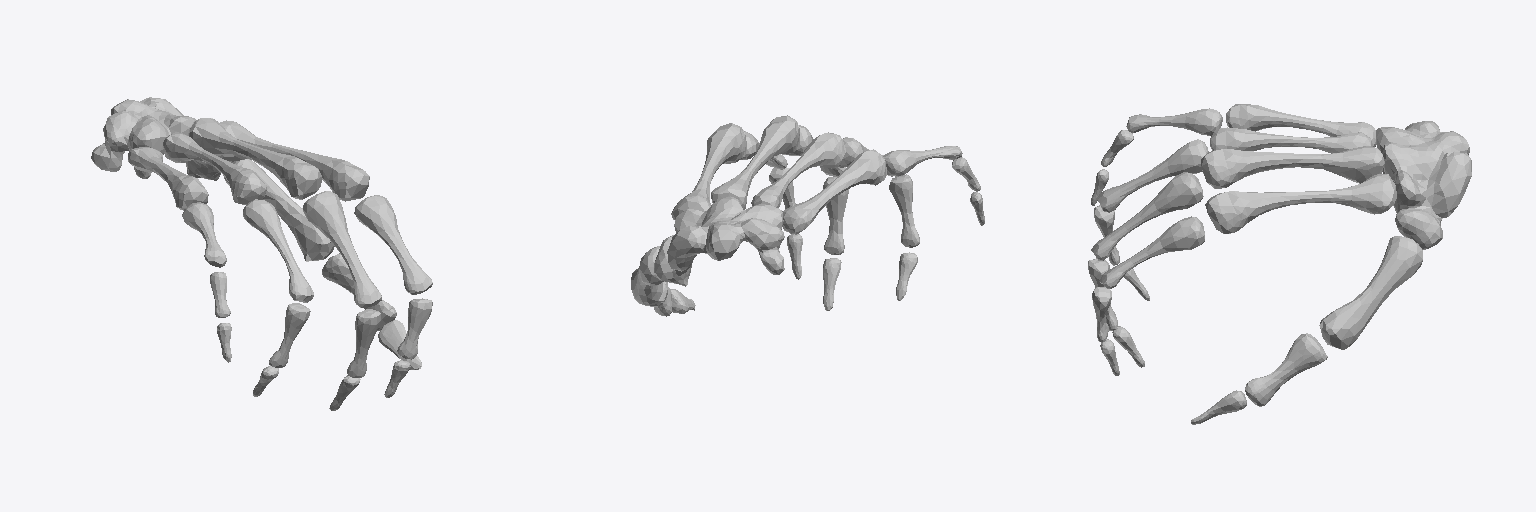
File: rand_0_bone.obj
The picture shows the model from 3 angles: view 1: azimuth 30°, elevation 25°; view 2: azimuth 150°, elevation 25°; view 3: azimuth 270°, elevation 25°; orthographic projection.
Bounding box in the file's own units: 91.05 × 76.95 × 120.